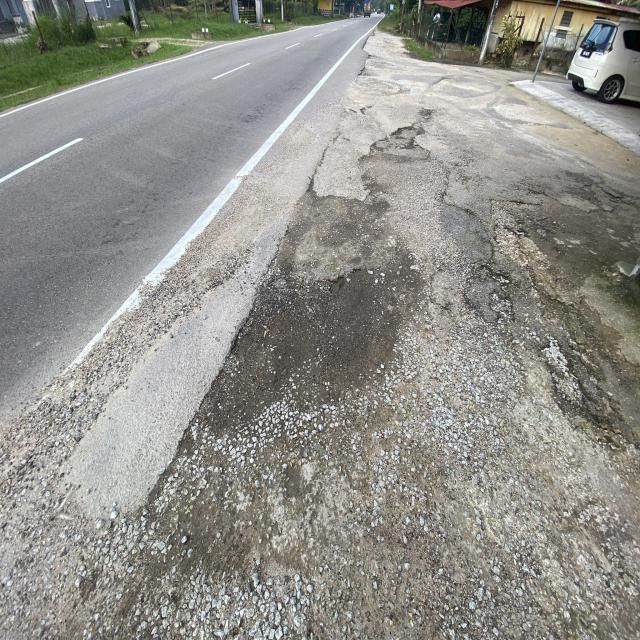pothole: (192, 296, 313, 413), (528, 313, 632, 445)
